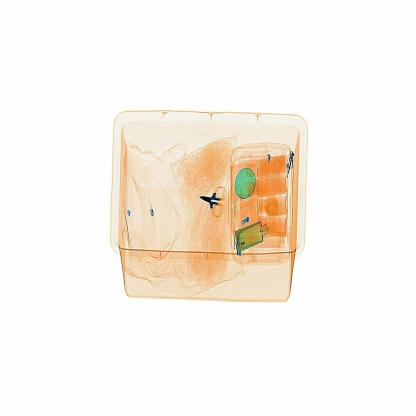gun: (194, 179, 232, 221)
